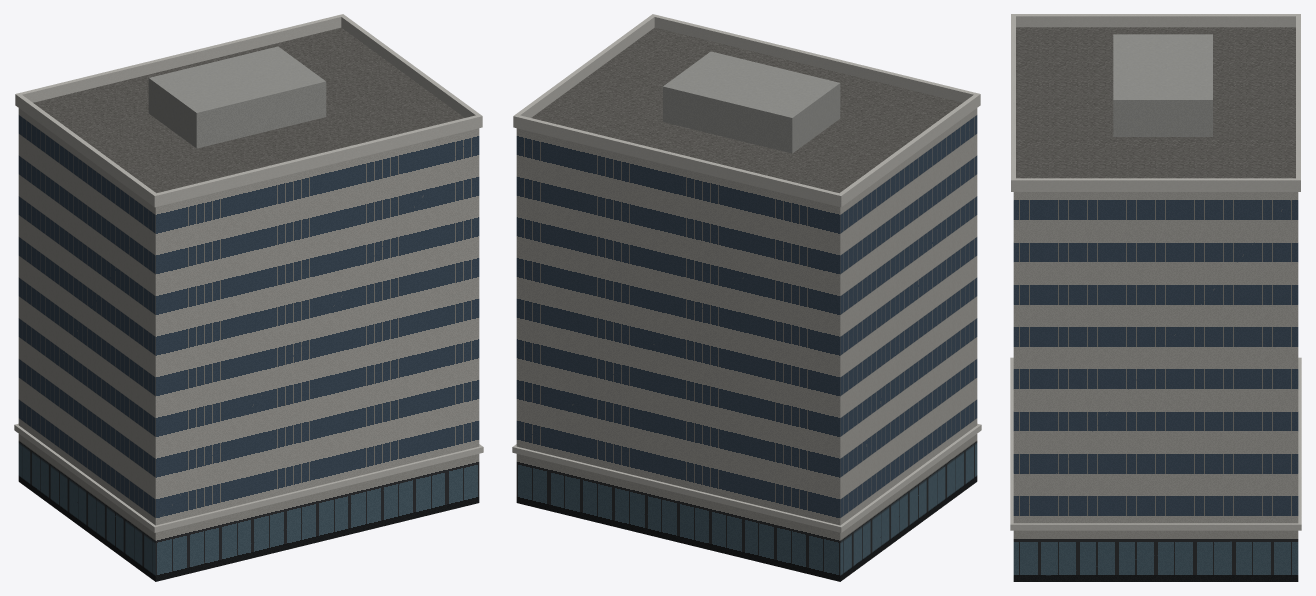
The model's file is concrete_office.glb.
3 views of the same model, side by side, from view 1: azimuth 30°, elevation 25°; view 2: azimuth 150°, elevation 25°; view 3: azimuth 270°, elevation 25° (orthographic). The views are drawn at different scales.
Parts seen in each view (by area): view 1: concrete_office; view 2: concrete_office; view 3: concrete_office.
Boxes of the visible parts, x1,y1,x2,y2 form: concrete_office: (14, 14, 483, 581); concrete_office: (512, 14, 981, 581); concrete_office: (1010, 14, 1301, 581).
Bounding box in the file's own units: 30.5 × 36.5 × 22.5.
Materials: 5 (5 with a texture image).
